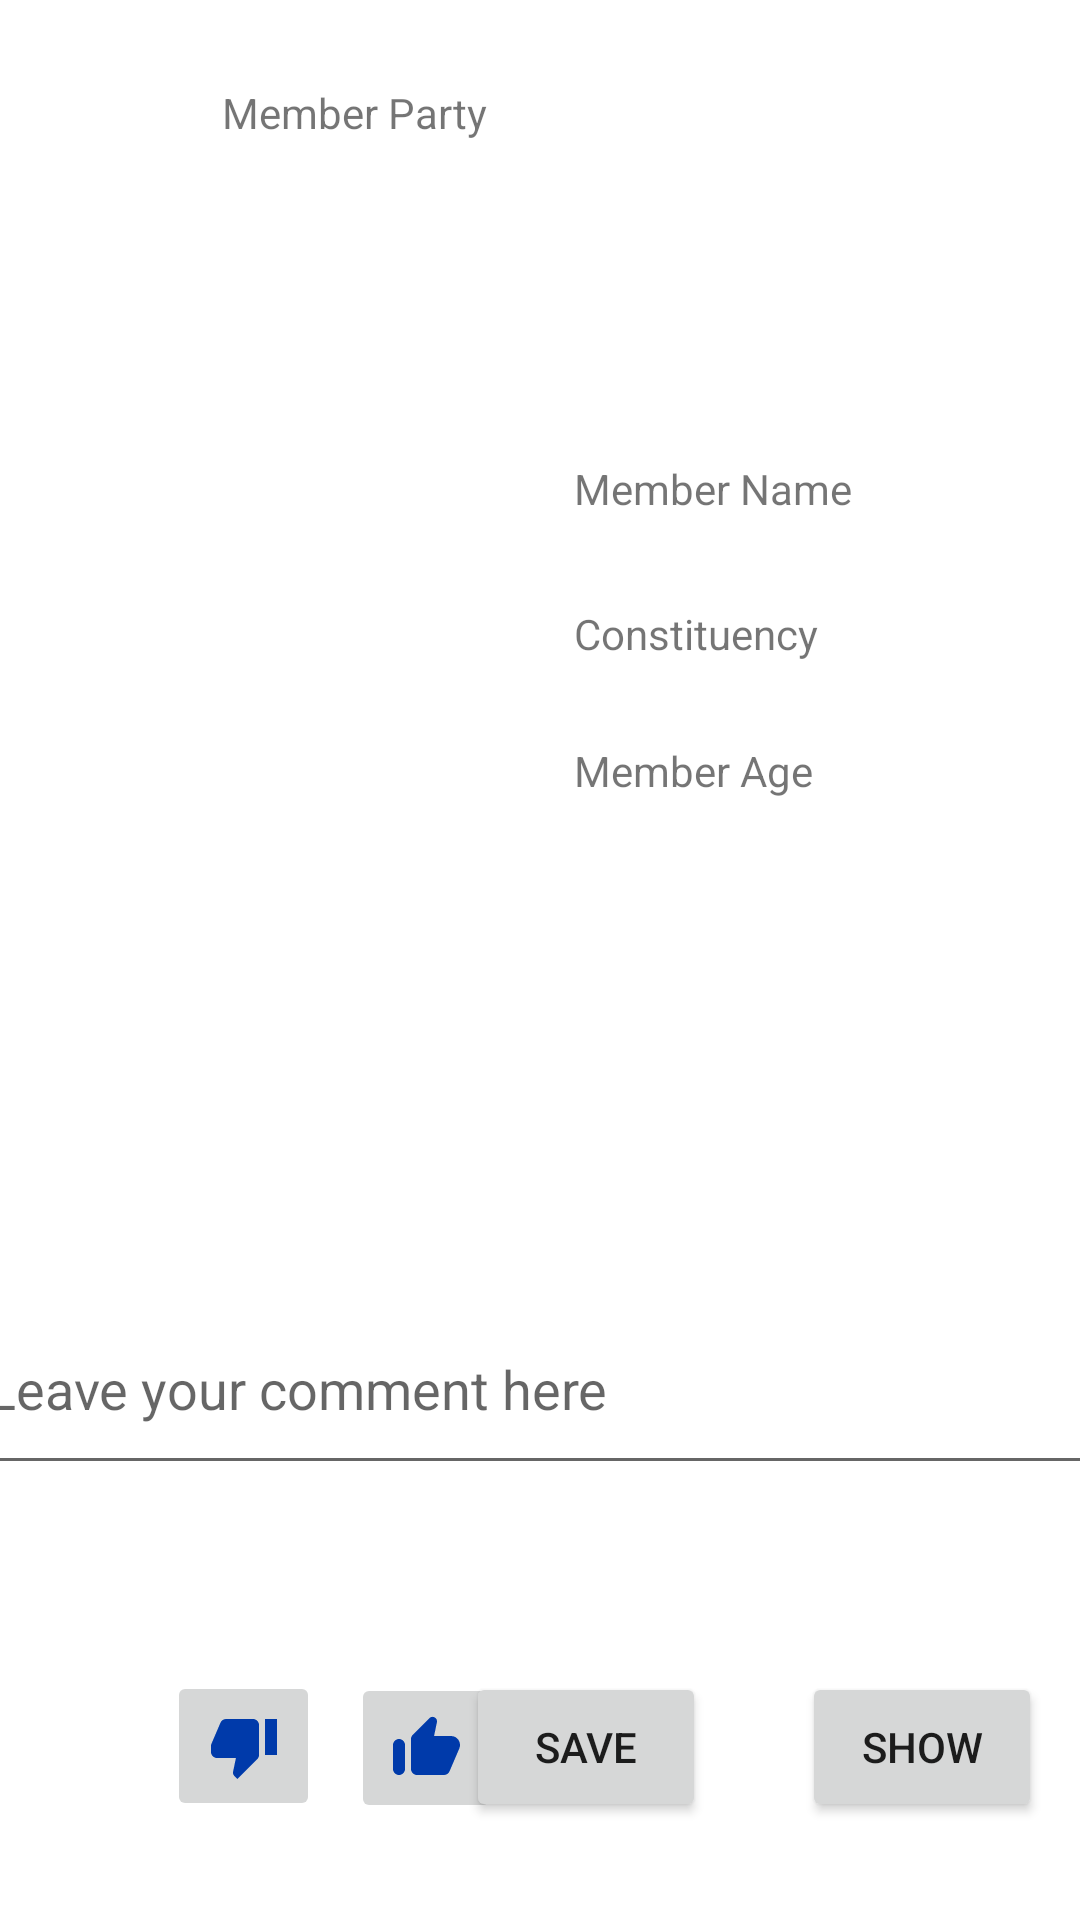

Screen size 1080px x 1920px. Icon name, then its center in pixels as (x=x, y=y):
thumb down: (x=243, y=1746)
thumb up: (x=432, y=1750)
